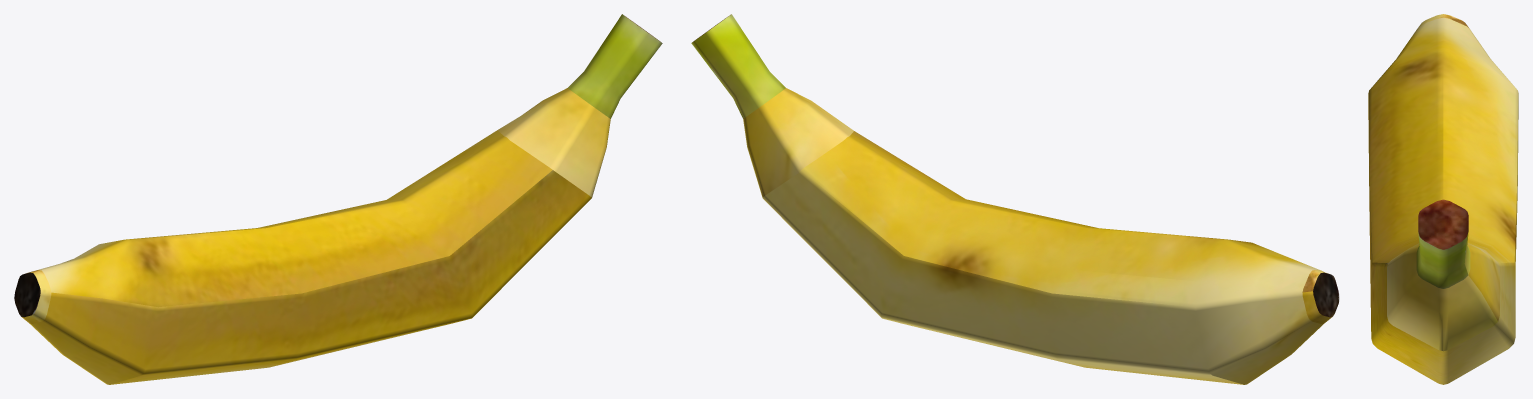
File: banana.fbx
3 views of the same model, side by side, from view 1: azimuth 30°, elevation 25°; view 2: azimuth 150°, elevation 25°; view 3: azimuth 270°, elevation 25° (orthographic). The views are drawn at different scales.
Visible parts, largest first — view 1: pCylinder1; view 2: pCylinder1; view 3: pCylinder1.
Boxes of the visible parts, <box> form: pCylinder1: <box>14,14,662,384</box>; pCylinder1: <box>691,14,1339,384</box>; pCylinder1: <box>1368,14,1518,384</box>.
Bounding box in the file's own units: 19.8 × 7.8 × 3.87.
Materials: 1 (1 with a texture image).
